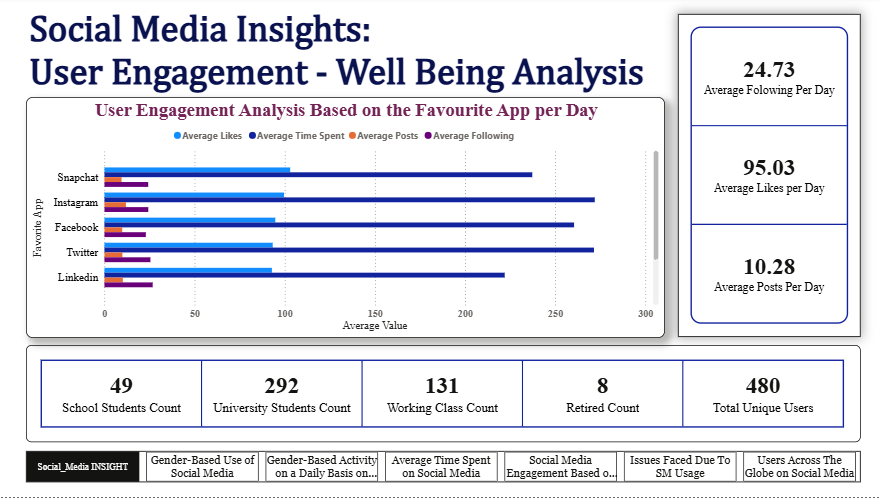

The dashboard page shown, as its layout file describes it:
{"tool":"powerbi","page":{"name":"Social_Media INSIGHT","canvas":[1280,720],"ordinal":0},"visuals":[{"type":"textbox","box":[43.3,13.3,1091.7,160],"z":0},{"type":"cardVisual","fields":{"Data":["Age_v_s_Usage.Average Folowing Per Day","Age_v_s_Usage.Average Likes per Day","Age_v_s_Usage.Average Posts Per Day"]},"box":[981.7,25,263.3,465],"z":1000},{"type":"cardVisual","fields":{"Data":["Age_v_s_Usage.School Students Count","Age_v_s_Usage.Uni Students Count","Age_v_s_Usage.Working Class Count","Age_v_s_Usage.Retired Count","Age_v_s_Usage.Total Unique Users"]},"box":[43.3,501.7,1201.7,140],"z":2000},{"type":"clusteredBarChart","title":"User Engagement Analysis Based on the Favourite App per Day","fields":{"Category":["Age_v_s_Usage.Favorite App"],"Y":["Age_v_s_Usage.Average Likes per Day","Age_v_s_Usage.Average Time Spent","Age_v_s_Usage.Average Posts Per Day","Age_v_s_Usage.Average Folowing Per Day"]},"box":[43.3,143.3,920,346.7],"z":3000},{"type":"pageNavigator","box":[43.3,653.3,1201.7,45],"z":4000}]}

Visuals, with their boxes in screenshot pixels (x1, y1, x2, y2), scaled from the page's 1280x720 canvas onto the 879x498 screenshot:
textbox: 30:9:779:120
cardVisual - Age_v_s_Usage.Average Folowing Per Day x Age_v_s_Usage.Average Likes per Day: 674:17:855:339
cardVisual - Age_v_s_Usage.School Students Count x Age_v_s_Usage.Uni Students Count: 30:347:855:444
"User Engagement Analysis Based on the Favourite App per Day" clusteredBarChart: 30:99:662:339
pageNavigator: 30:452:855:483
